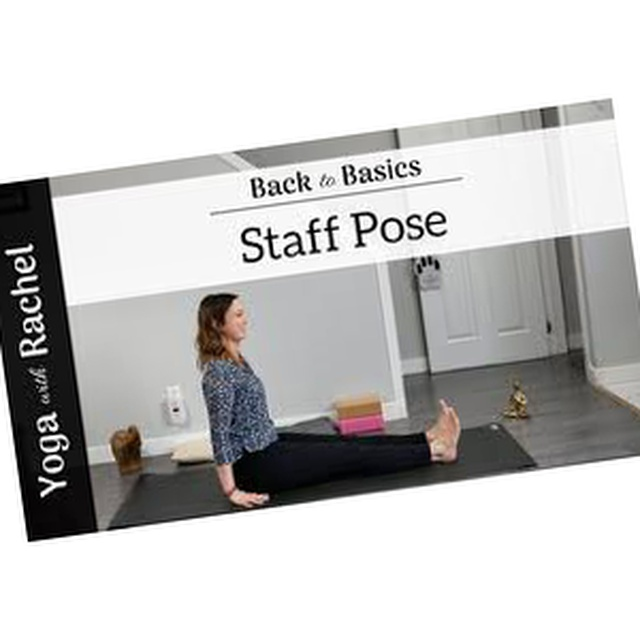Staff_Pose: (195, 292, 463, 512)
